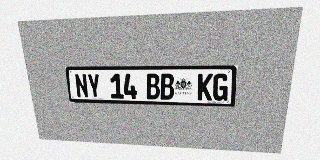1: (109, 74, 124, 99)
4: (123, 74, 137, 99)
B: (160, 74, 174, 100), (146, 74, 160, 99)
G: (212, 74, 229, 101)
K: (197, 74, 213, 100)
N: (74, 74, 89, 98)
Y: (87, 74, 101, 98)
